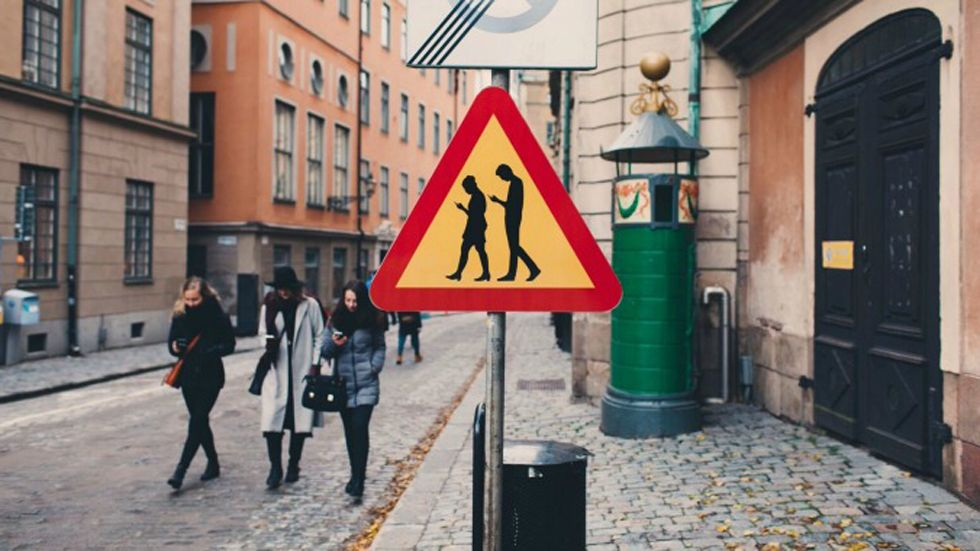Cartel: (363, 86, 636, 332), (394, 1, 610, 75)
Muro: (699, 1, 951, 491)
Persona: (314, 275, 394, 505), (250, 265, 328, 491), (160, 262, 235, 487)
Poste: (483, 69, 516, 544)
